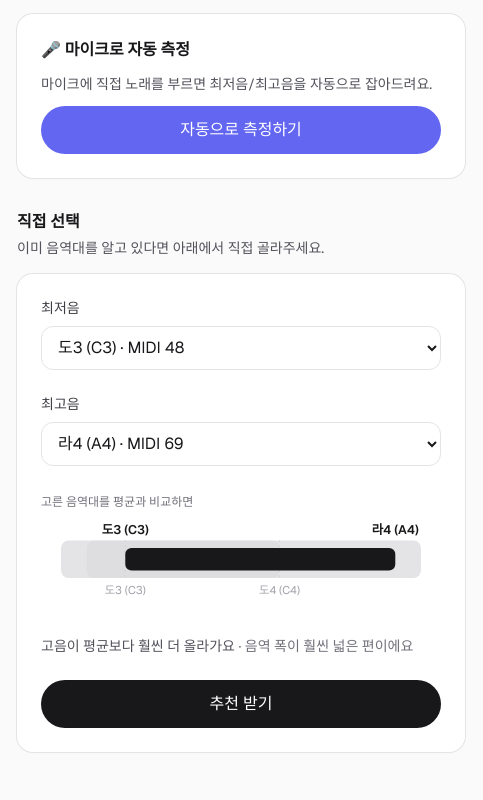
Test: VoiceRangePage 제출 흐름 › API가 실패하면 에러 메시지를 노출하고 라우팅하지 않는다
(page scrolled)
Click the button "추천 받기" at (241, 704), box [41,680,441,728]
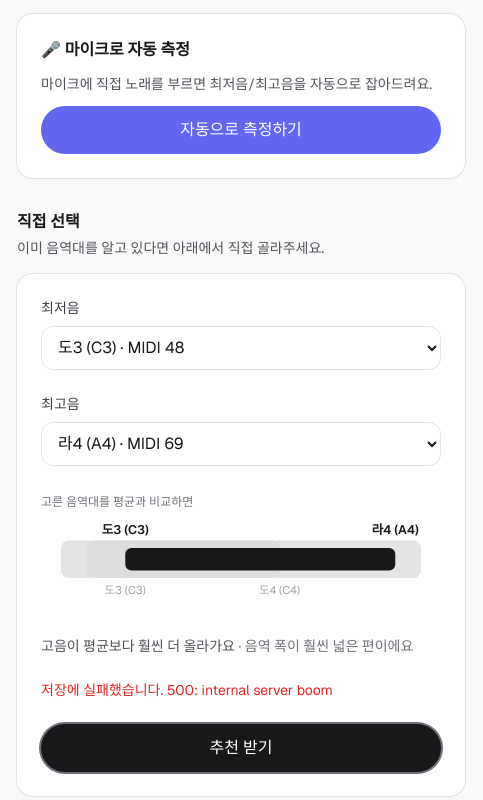
Expected: the text "저장에 실패했습니다. 500: internal server boom" is shown, [41,681,333,699]
